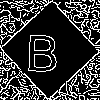B: (25, 25, 60, 72)
